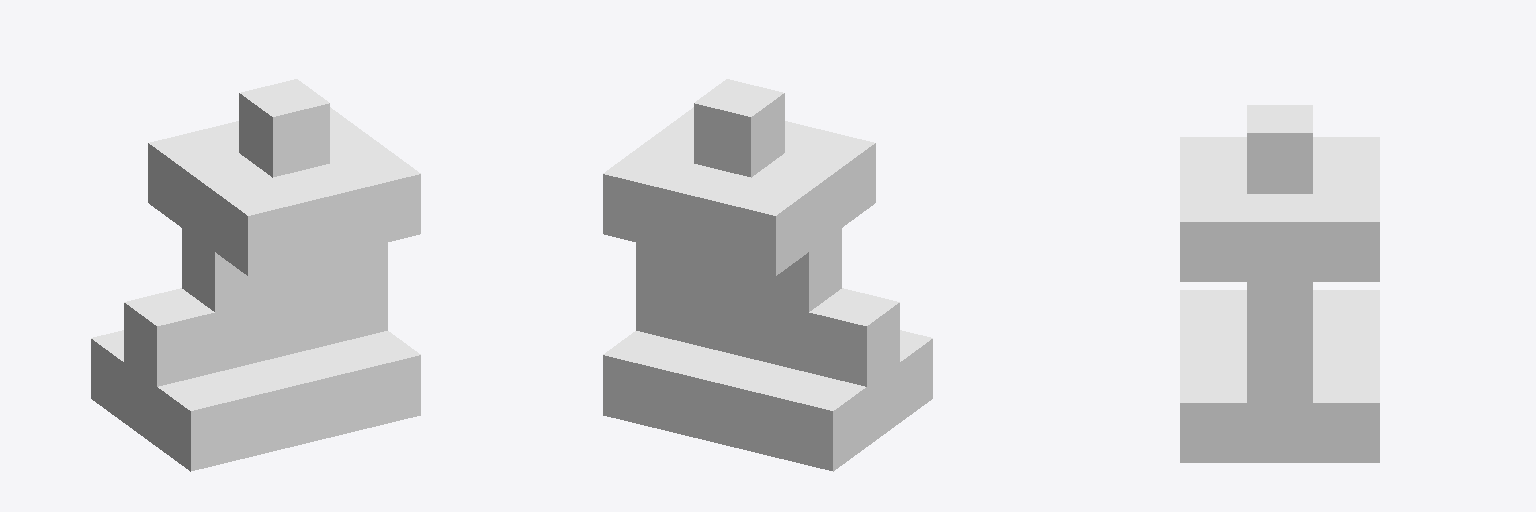
The model's file is flak38quad_base.obj.
3 views of the same model, side by side, from view 1: azimuth 30°, elevation 25°; view 2: azimuth 150°, elevation 25°; view 3: azimuth 270°, elevation 25° (orthographic).
Parts seen in each view (by area): view 1: flak38quad_base; view 2: flak38quad_base; view 3: flak38quad_base.
Boxes of the visible parts, x1=… form: flak38quad_base: x1=91, y1=79, x2=420, y2=471; flak38quad_base: x1=603, y1=79, x2=932, y2=471; flak38quad_base: x1=1180, y1=105, x2=1379, y2=462.
Bounding box in the file's own units: 4 × 5 × 3.